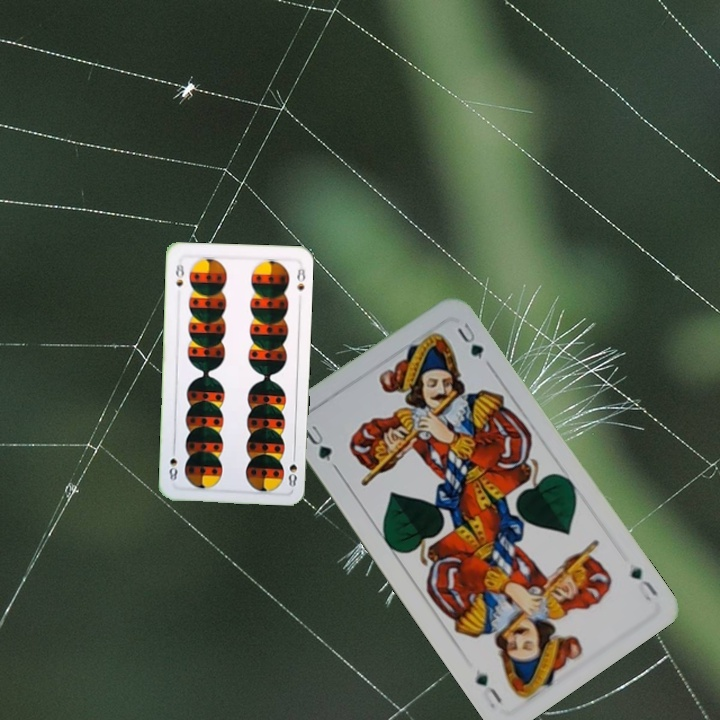GU: (300, 421, 335, 464), (626, 563, 661, 604)
S8: (284, 449, 300, 489), (171, 257, 187, 289)
